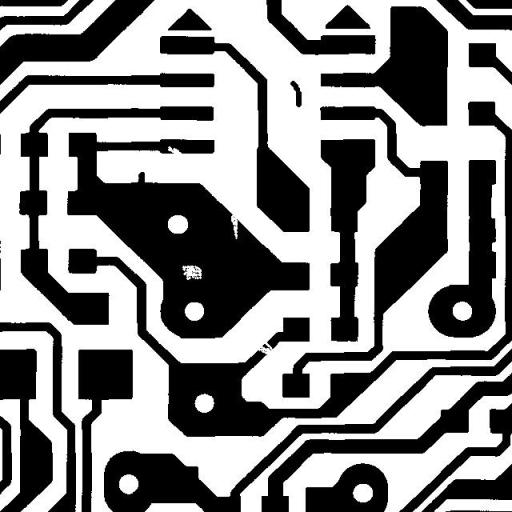copper: (282, 73, 309, 114)
mousebite: (223, 208, 245, 246), (160, 138, 189, 162)
open: (249, 327, 285, 366)
pin-hole: (174, 258, 209, 287)
spur: (130, 164, 152, 192)
